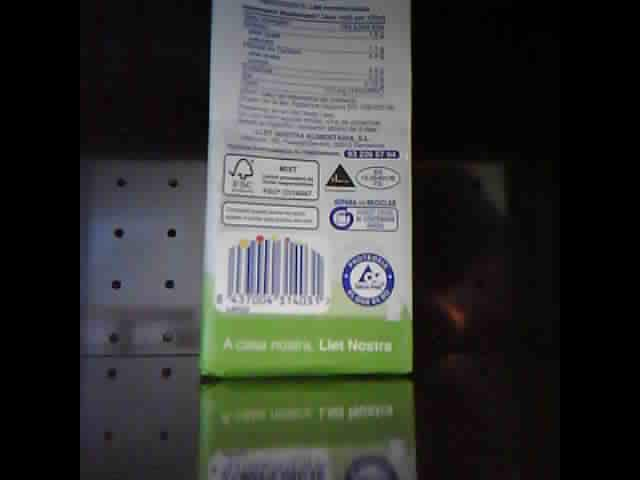leche: (199, 2, 416, 381)
